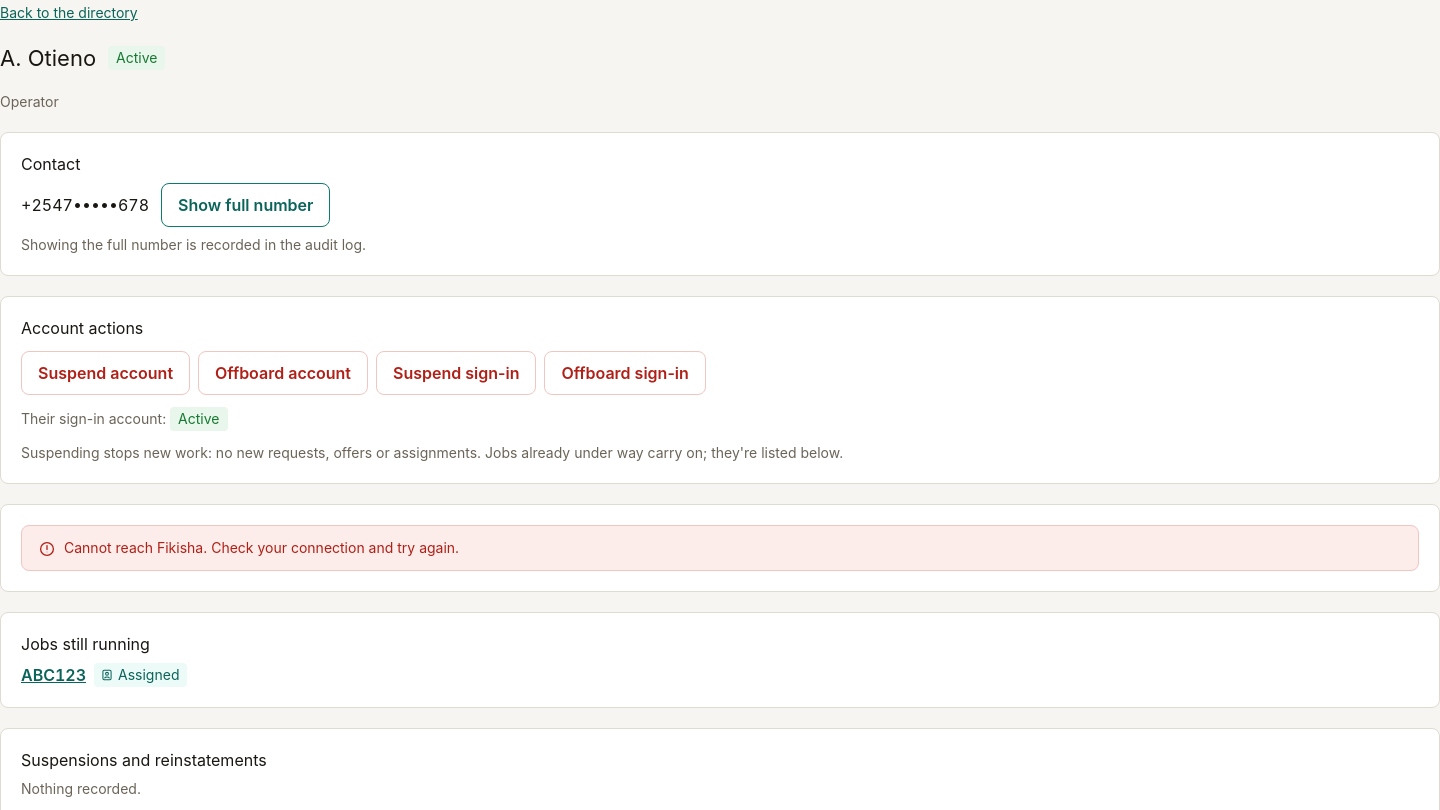
Test: directory detail › asks for a reason, restates the action, and says plainly when MFA is missing
Click the button "Suspend account": {"x": 106, "y": 373} left=21, top=351, right=190, bottom=395
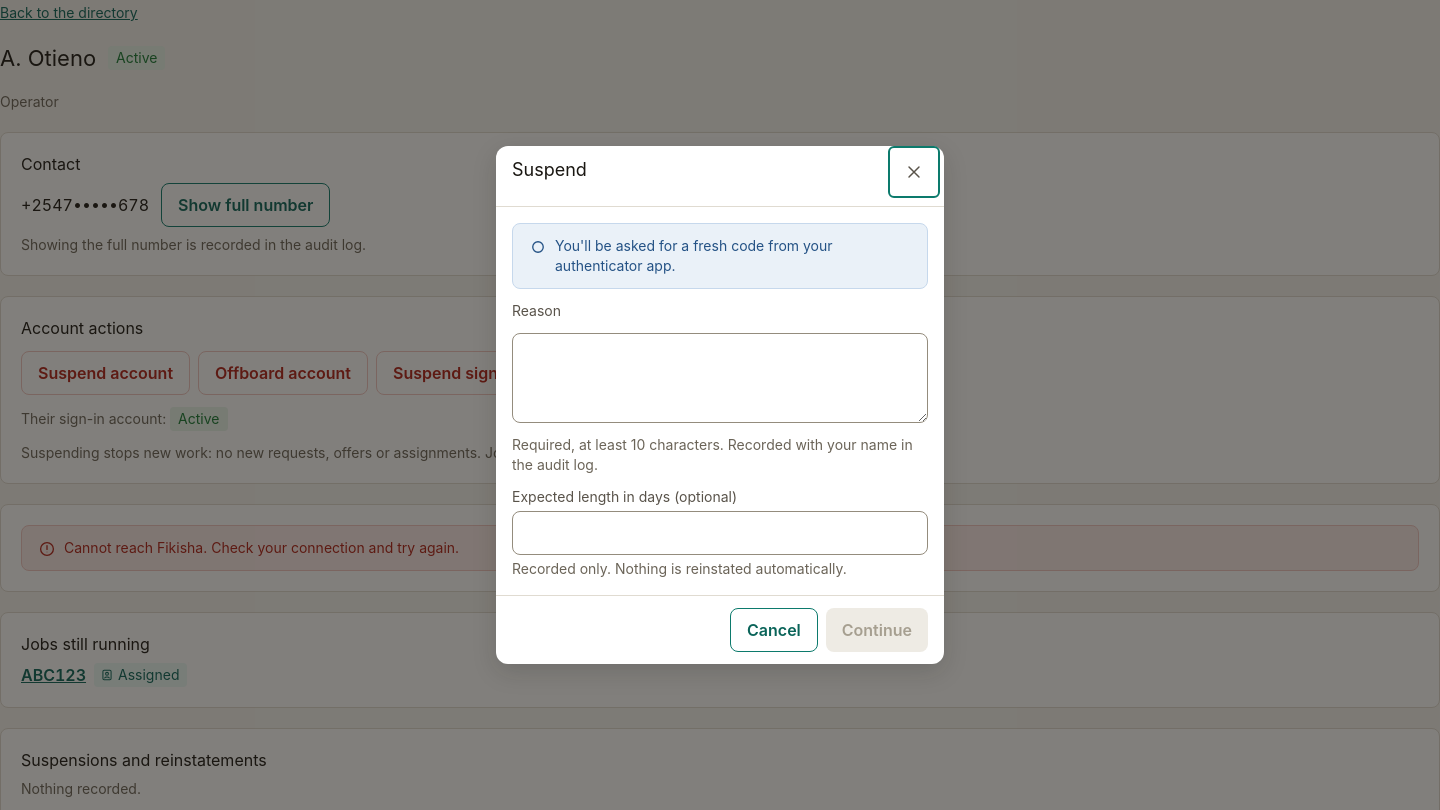
Result: the button "Continue" is disabled at left=826, top=608, right=928, bottom=652
In the text box labelled "Reason": {"x": 720, "y": 378} left=512, top=333, right=928, bottom=423, type "short"
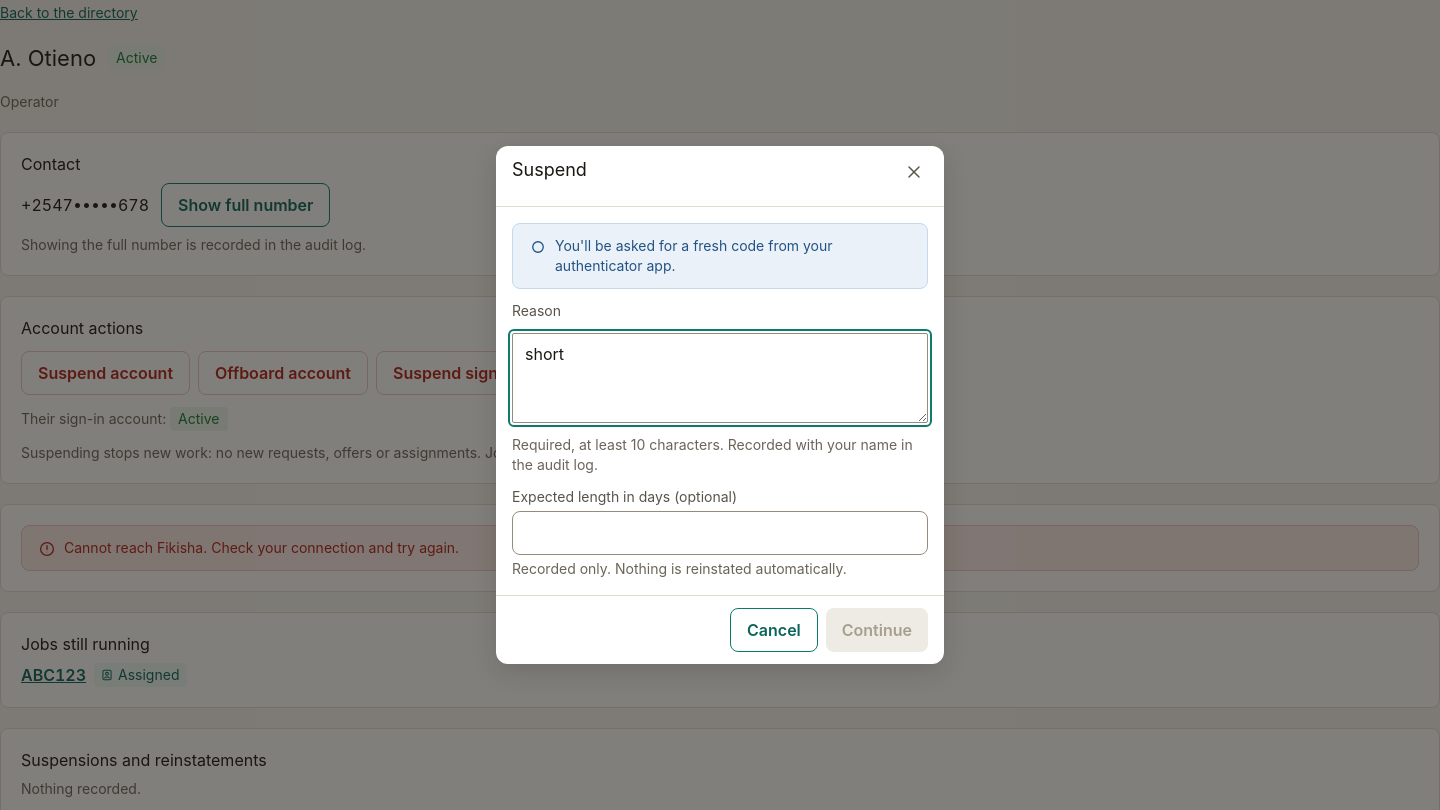
Result: the button "Continue" is disabled at left=826, top=608, right=928, bottom=652
In the text box labelled "Reason": {"x": 720, "y": 378} left=512, top=333, right=928, bottom=423, type " but now long enough"
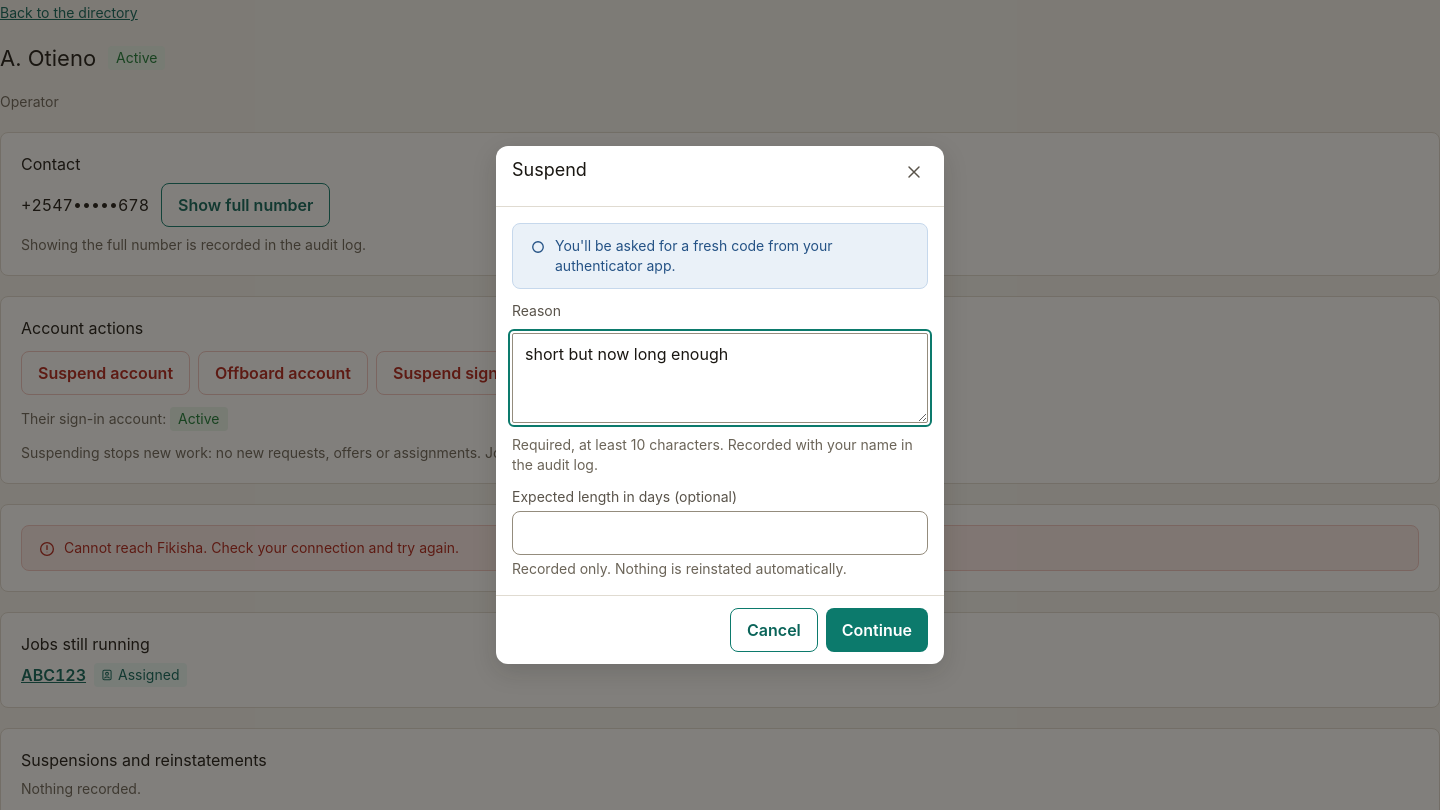
In the field labelled "Expected length in days (optional)": {"x": 720, "y": 533} left=512, top=511, right=928, bottom=555, type "14"
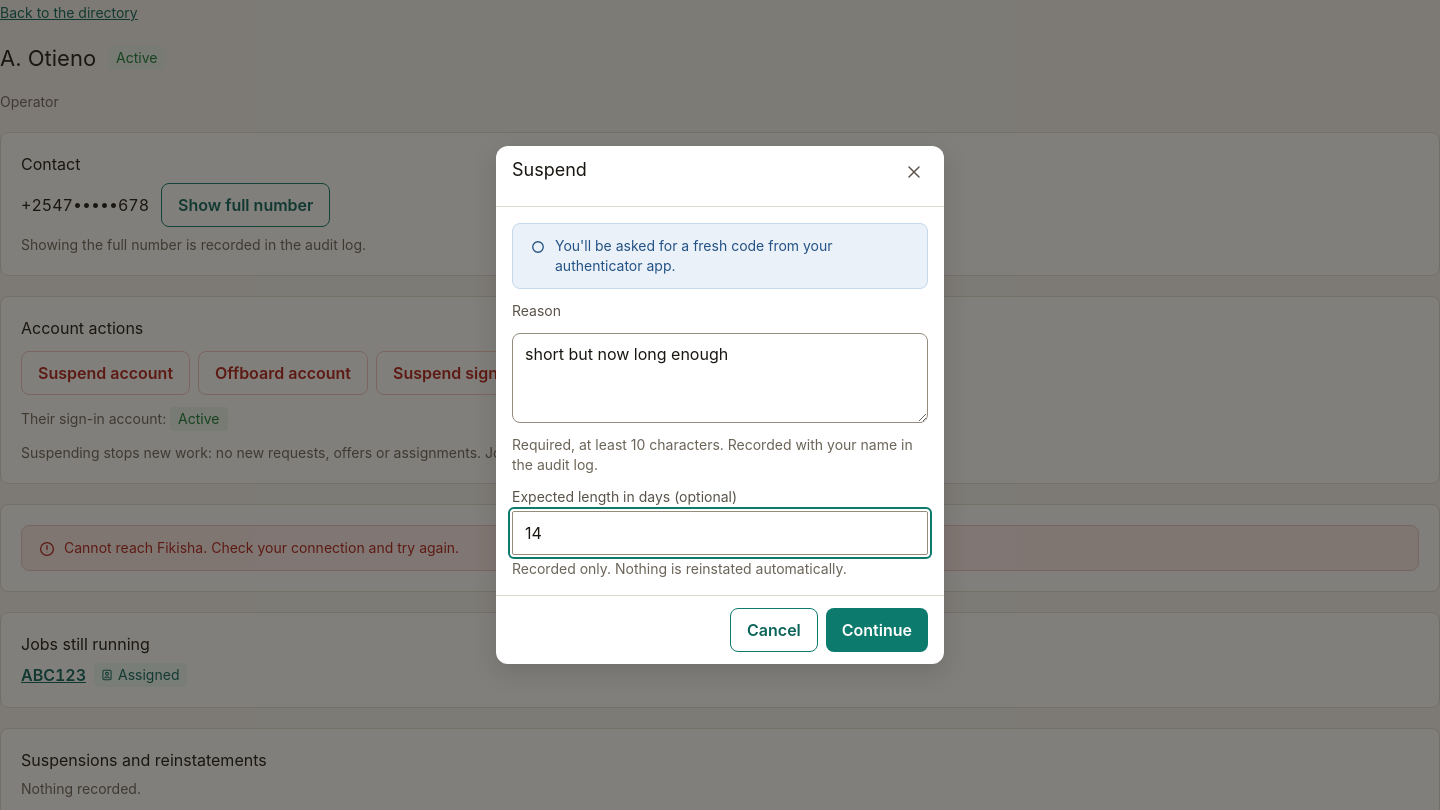
Click the button "Continue": {"x": 877, "y": 630} left=826, top=608, right=928, bottom=652
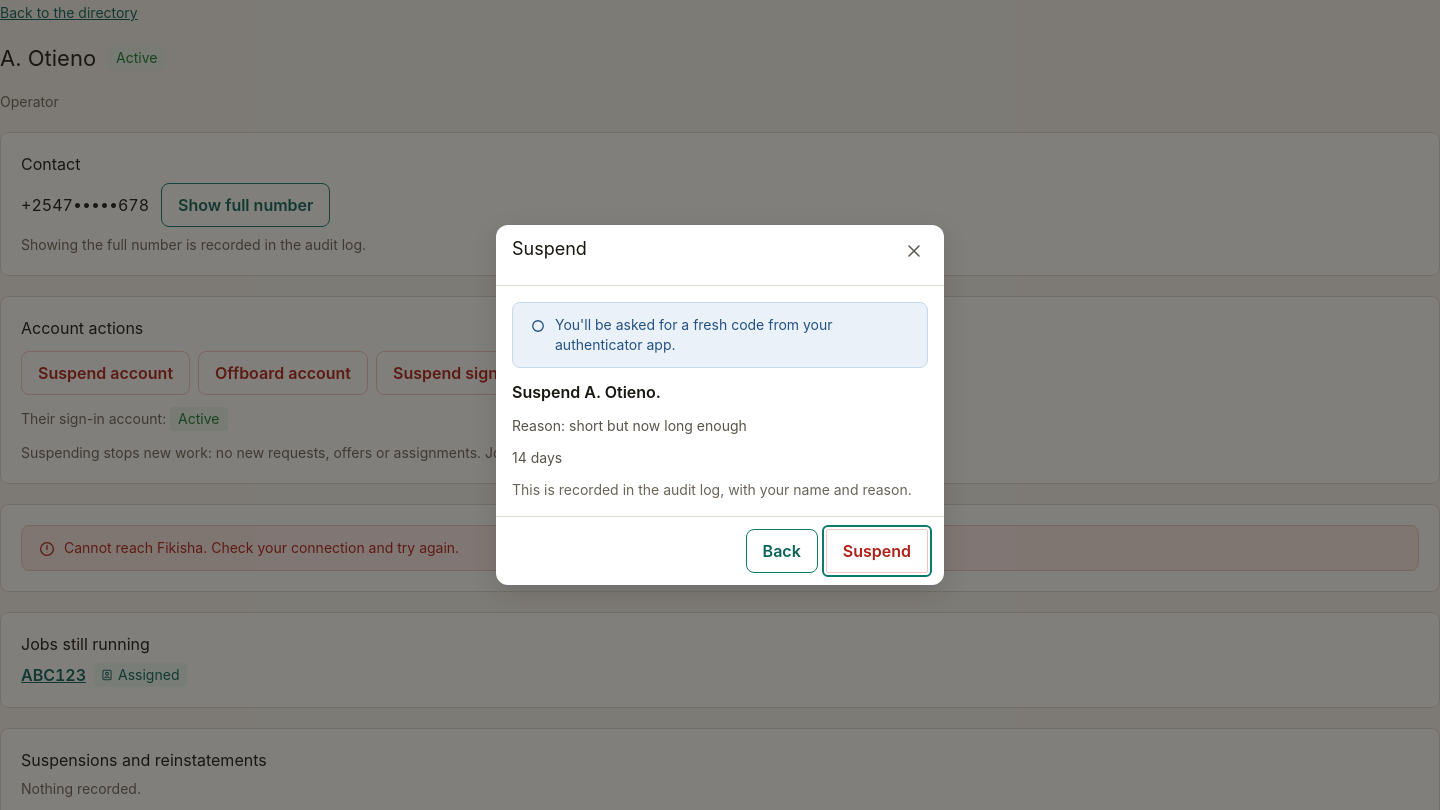
Result: the text "Suspend A. Otieno." is shown at left=512, top=382, right=661, bottom=402
Click the button "Suspend": {"x": 877, "y": 551} left=826, top=529, right=928, bottom=573
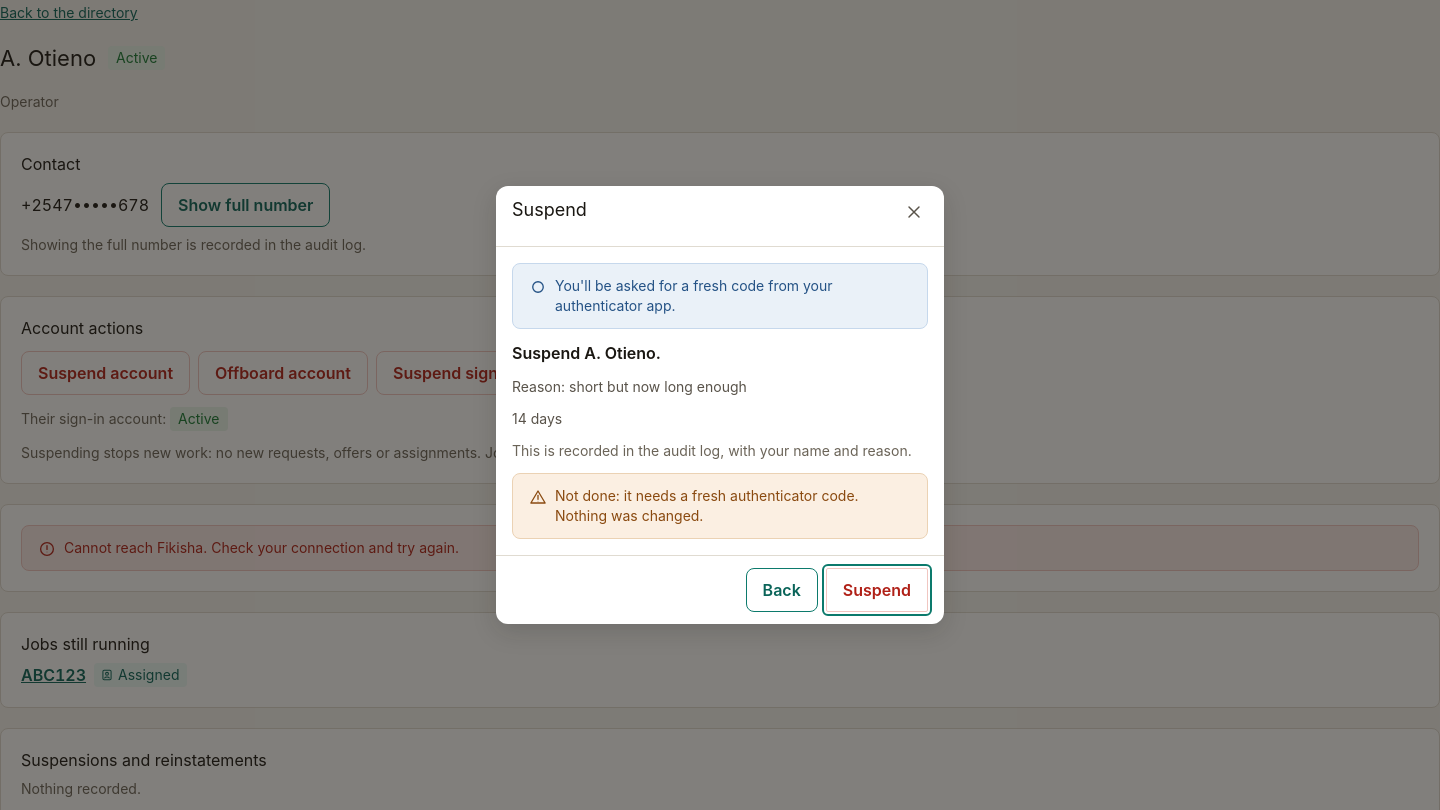
Result: the text "needs a fresh authenticator code. Nothing was changed" is shown at left=555, top=487, right=859, bottom=524
